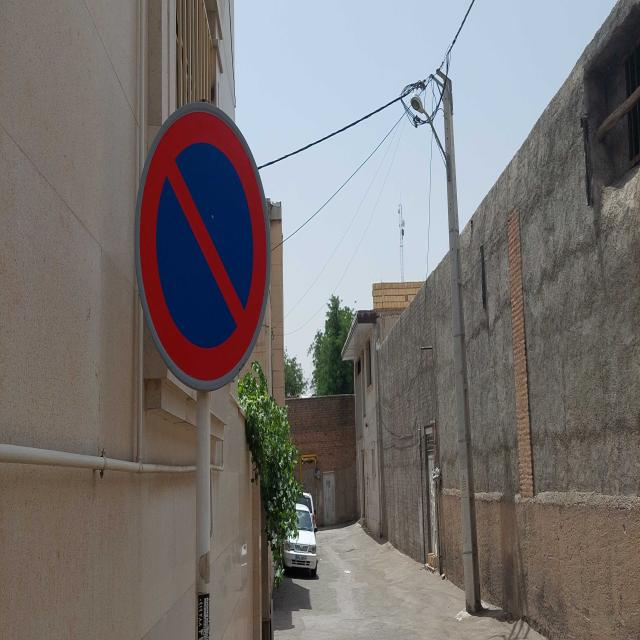forb_stopping: (134, 102, 272, 392)
